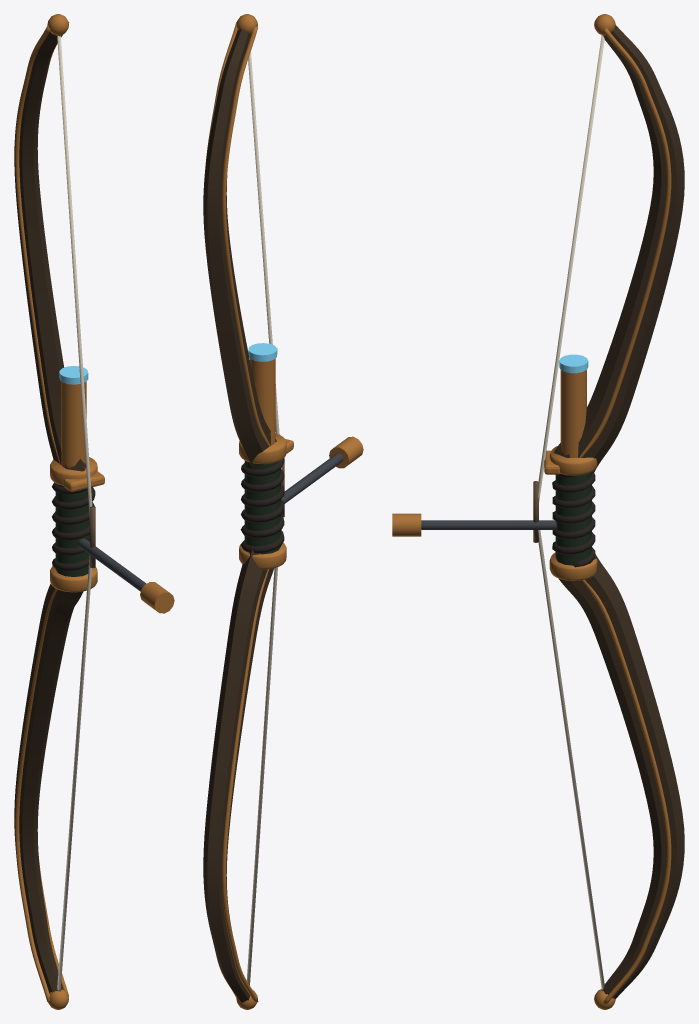
File: bow_longshot.fbx
3 renders of one model, left to right at view 1: azimuth 30°, elevation 25°; view 2: azimuth 150°, elevation 25°; view 3: azimuth 270°, elevation 25°, orthographic.
Parts seen in each view (by area): view 1: bow_longshot; view 2: bow_longshot; view 3: bow_longshot.
Boxes of the visible parts, left/top/right/bottom form: bow_longshot: left=14, top=14, right=174, bottom=1009; bow_longshot: left=203, top=14, right=363, bottom=1009; bow_longshot: left=392, top=14, right=684, bottom=1009.
Bounding box in the file's own units: 0.066 × 1.51 × 0.4029.
